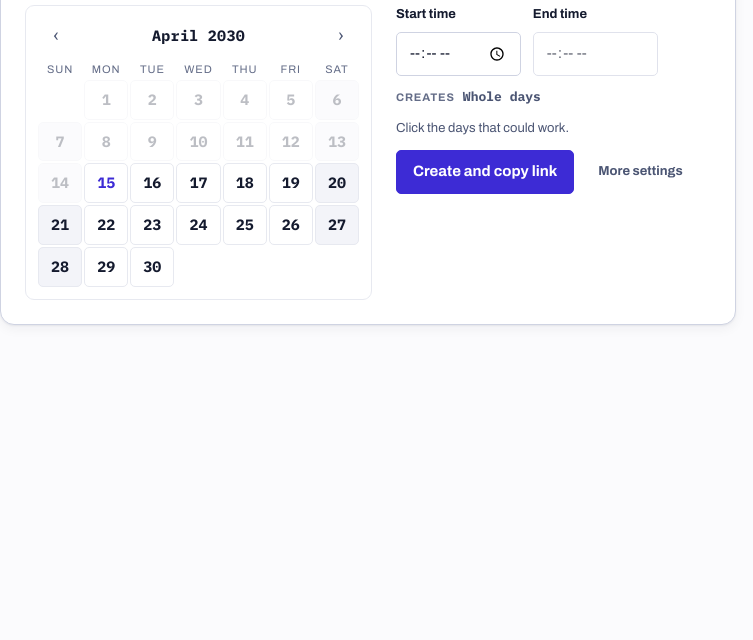
Scenario: AppointmentComposer co-organizers › rejects case-insensitive duplicates
Click the button "More settings" at [640, 172], box left=586, top=150, right=695, bottom=194
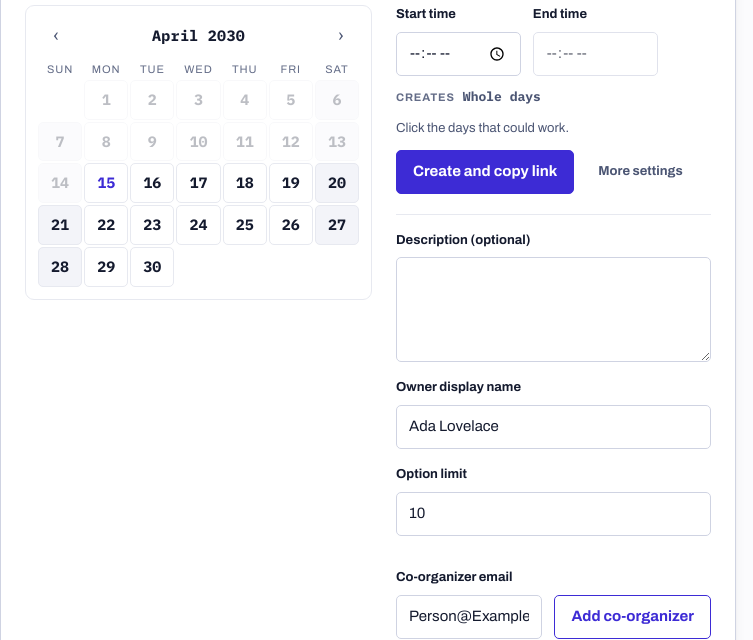
Click the button "Add co-organizer" at [633, 617], box left=554, top=595, right=711, bottom=639
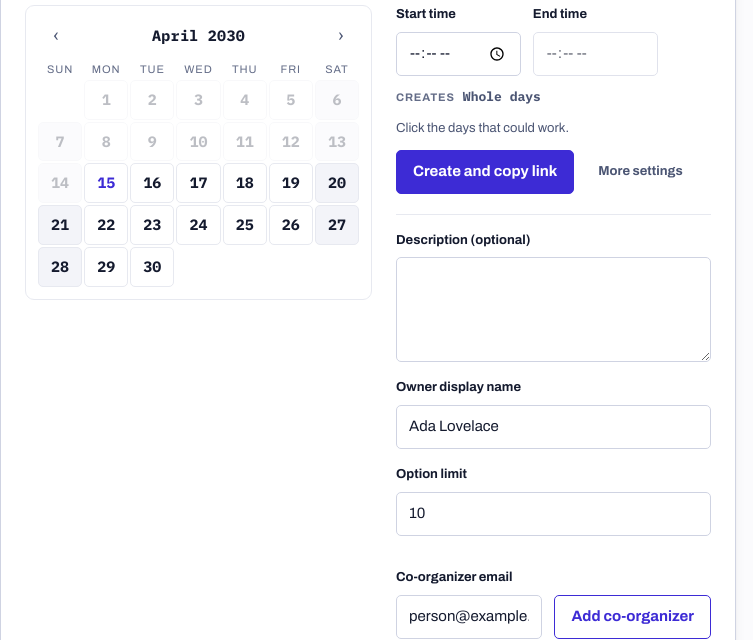
Click the button "Add co-organizer" at [633, 617], box left=554, top=595, right=711, bottom=639
(page scrolled)
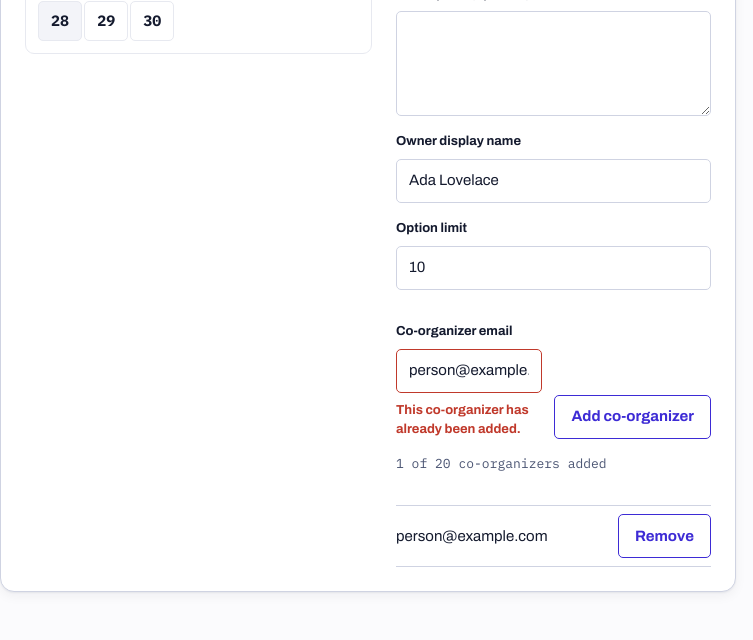
Expected: the message with id "composer-co-organizer-email-error" reads "This co-organizer has already been added.", left=396, top=403, right=529, bottom=436
